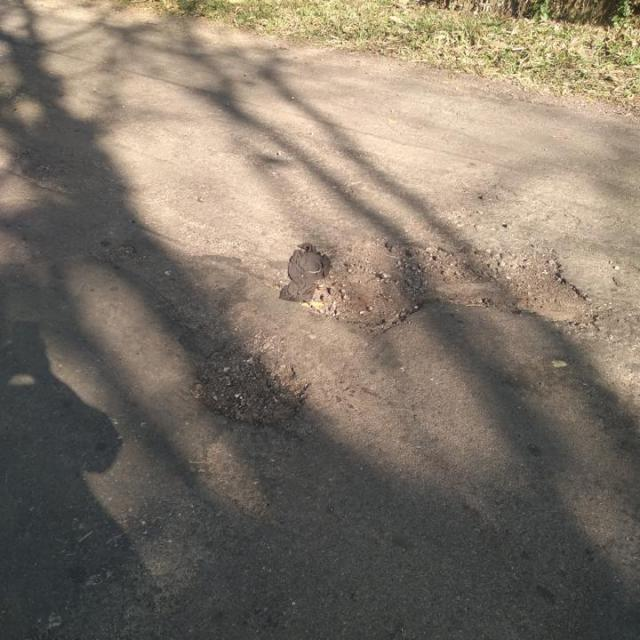pothole: (298, 235, 604, 338), (188, 342, 314, 426)
